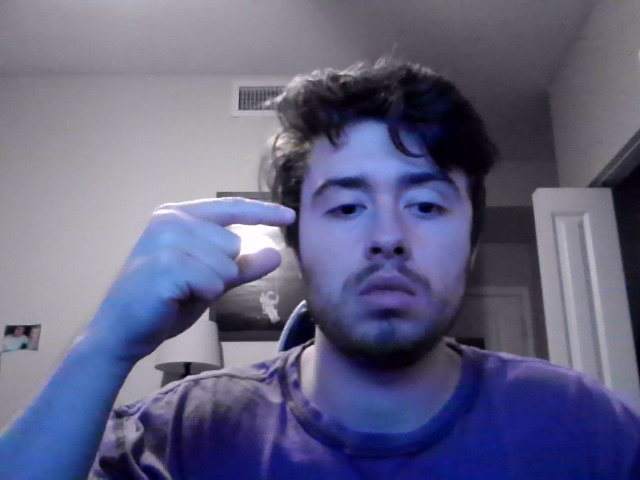g: (87, 195, 297, 363)
